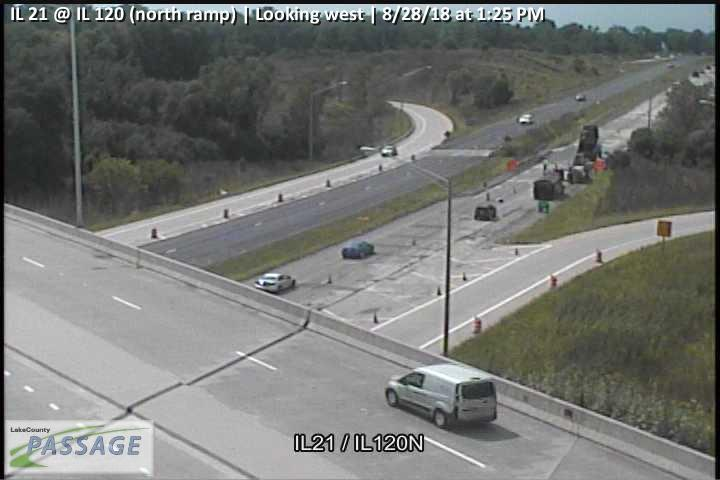SUV: (383, 363, 498, 429), (474, 204, 496, 220)
Sedan: (254, 272, 297, 294), (341, 239, 374, 259)
Truck: (532, 171, 566, 200)
